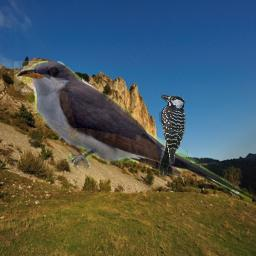Cuckoo: (14, 61, 252, 205)
Woodpecker: (158, 93, 187, 177)
